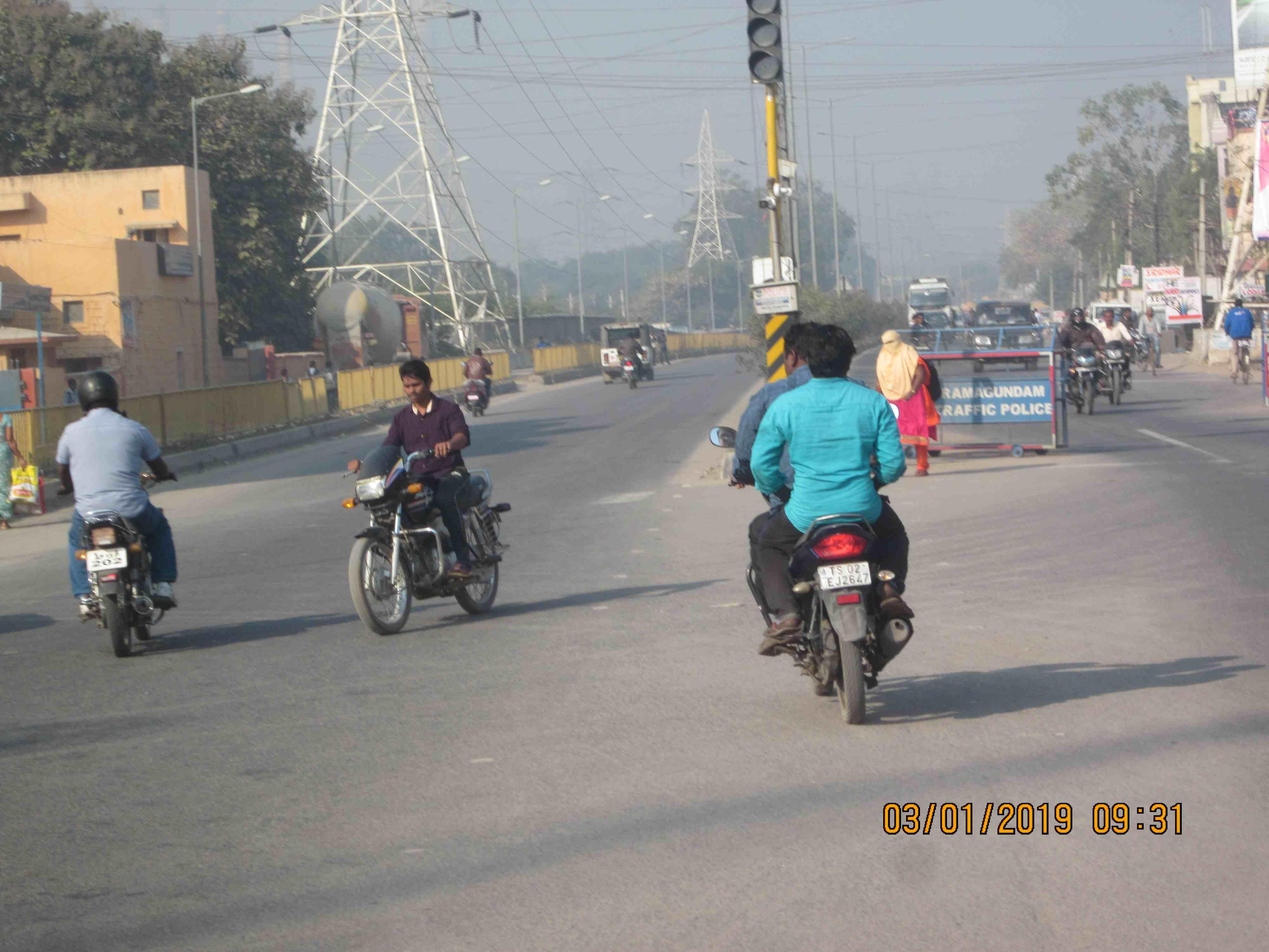plate: (815, 555, 880, 591), (79, 545, 134, 572)
